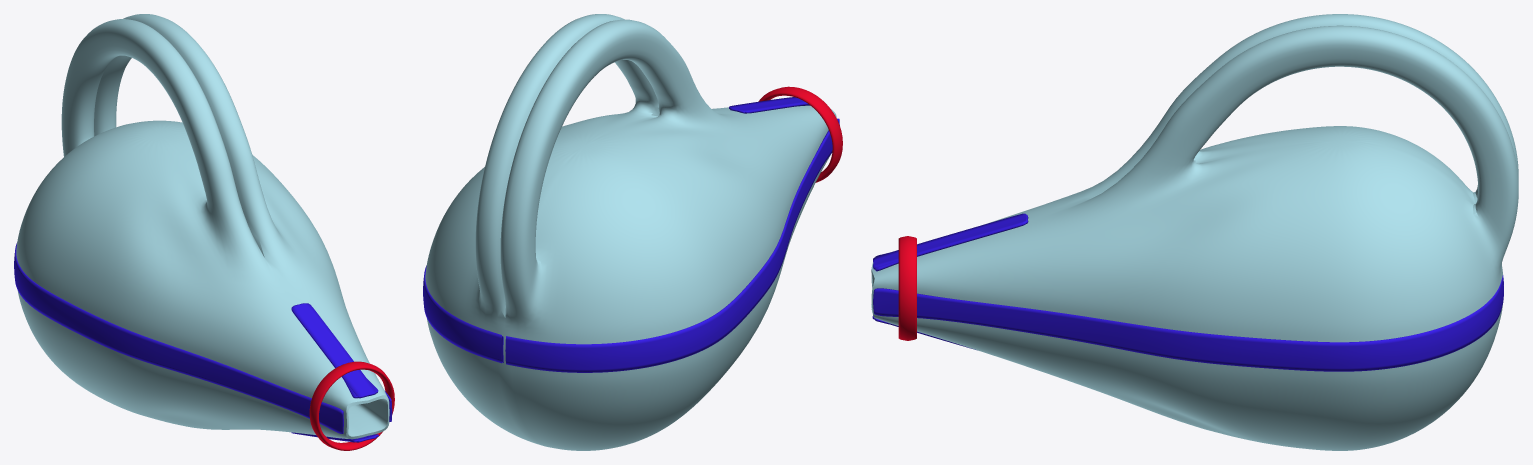
File: Vacuum.fbx
3 renders of one model, left to right at view 1: azimuth 30°, elevation 25°; view 2: azimuth 150°, elevation 25°; view 3: azimuth 270°, elevation 25°, orthographic. The views are drawn at different scales.
Parts seen in each view (by area): view 1: Vacuum, HProtectingPlate, VProtectingPlate, RotatingPlate; view 2: Vacuum, HProtectingPlate, RotatingPlate, VProtectingPlate; view 3: Vacuum, HProtectingPlate, VProtectingPlate, RotatingPlate.
Boxes of the visible parts, x1,y1,x2,y2 form: Vacuum: (16, 14, 389, 439); HProtectingPlate: (14, 242, 392, 433); VProtectingPlate: (291, 303, 378, 442); RotatingPlate: (309, 361, 394, 450); Vacuum: (425, 14, 836, 450); HProtectingPlate: (423, 118, 839, 372); RotatingPlate: (758, 86, 842, 182); VProtectingPlate: (729, 97, 809, 113); Vacuum: (871, 14, 1518, 450); HProtectingPlate: (873, 275, 1503, 371); VProtectingPlate: (872, 213, 1028, 349); RotatingPlate: (898, 236, 916, 340).
Size of the model in its own units: 15 by 20.93 by 29.66.
